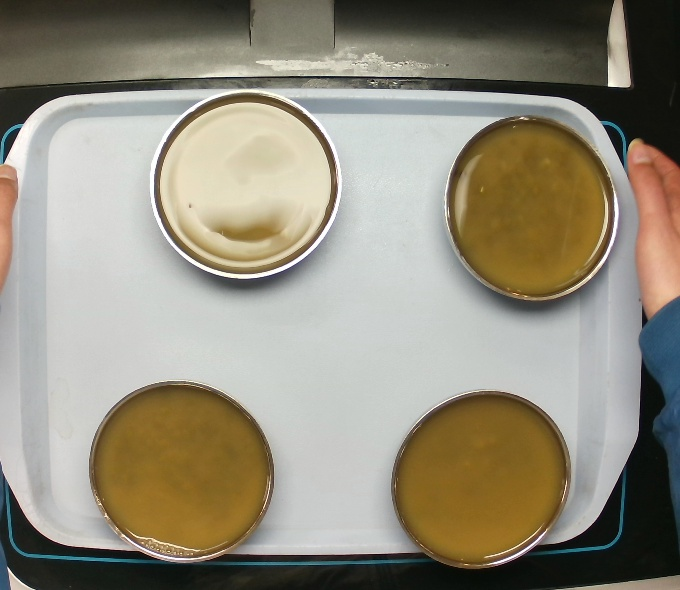wcq-LvDouTang: (439, 119, 617, 303), (89, 385, 268, 553), (395, 393, 568, 562), (152, 105, 334, 263)
